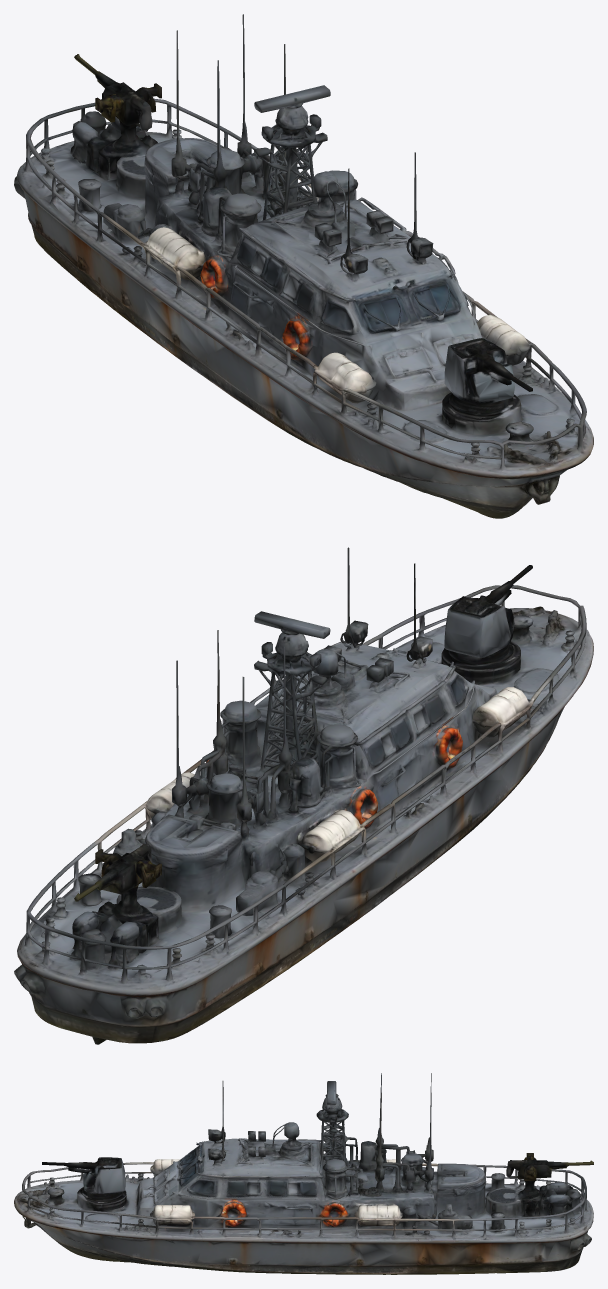
The model's file is boat_warship.glb.
The picture shows the model from 3 angles, top to bottom: view 1: azimuth 30°, elevation 25°; view 2: azimuth 150°, elevation 25°; view 3: azimuth 270°, elevation 25°; orthographic projection. The views are drawn at different scales.
Visible parts, largest first — view 1: node_0; view 2: node_0; view 3: node_0.
Part boxes in pixels (x1,y1,x2,y2): node_0: [14, 14, 593, 518]; node_0: [14, 547, 593, 1044]; node_0: [14, 1073, 593, 1274].
Size of the model in its own units: 0.292 by 0.4072 by 1.18.
1 material, 1 textured.
